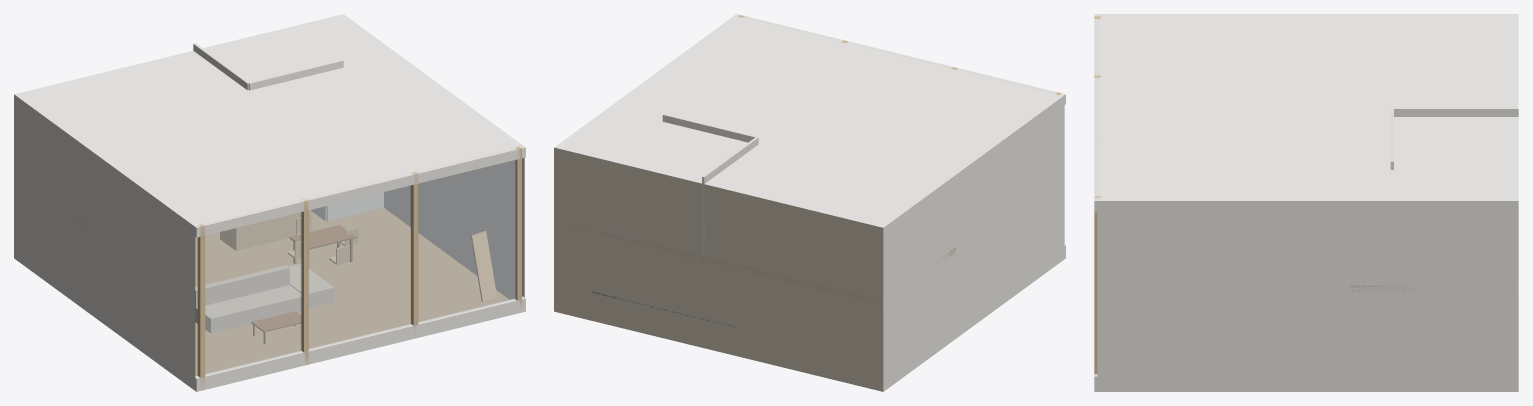
File: cayena-loft.glb
The picture shows the model from 3 angles, left to right: view 1: azimuth 30°, elevation 25°; view 2: azimuth 150°, elevation 25°; view 3: azimuth 270°, elevation 25°; orthographic projection. The views are drawn at different scales.
Parts seen in each view (by area): view 1: Techo_Doble, Pared_O, Techo_Mez, Piso_PB, Vidrio_S_0.0, Vidrio_S_3.5, Vidrio_S_-3.5, Pared_E, Antepecho_S, Cabezal_S, Sofa_Largo, Sofa_Respaldo (+12 smaller); view 2: Pared_N_Piedra, Techo_Doble, Pared_O, Techo_Mez, Cabezal_S, Mezzanine_Losa, Bath2_Wall_S, Bath2_Wall_W; view 3: Pared_E, Techo_Doble, Techo_Mez, Cabezal_S, Bath2_Wall_W, Pilastra_5.05.
Boxes of the visible parts, x1=… form: Techo_Doble: x1=87, y1=67, x2=523, y2=225; Pared_O: x1=14, y1=94, x2=195, y2=390; Techo_Mez: x1=14, y1=14, x2=415, y2=147; Piso_PB: x1=195, y1=208, x2=509, y2=376; Vidrio_S_0.0: x1=309, y1=186, x2=410, y2=349; Vidrio_S_3.5: x1=418, y1=160, x2=515, y2=322; Vidrio_S_-3.5: x1=205, y1=212, x2=300, y2=374; Pared_E: x1=384, y1=157, x2=524, y2=299; Antepecho_S: x1=194, y1=296, x2=525, y2=391; Cabezal_S: x1=194, y1=146, x2=525, y2=237; Sofa_Largo: x1=195, y1=285, x2=301, y2=333; Sofa_Respaldo: x1=195, y1=265, x2=289, y2=308; Pared_N_Piedra: x1=554, y1=147, x2=883, y2=391; Techo_Doble: x1=627, y1=15, x2=1062, y2=174; Pared_O: x1=883, y1=96, x2=1064, y2=391; Techo_Mez: x1=554, y1=94, x2=955, y2=227; Cabezal_S: x1=734, y1=14, x2=1065, y2=105; Mezzanine_Losa: x1=554, y1=220, x2=955, y2=305; Bath2_Wall_S: x1=662, y1=114, x2=757, y2=142; Bath2_Wall_W: x1=702, y1=137, x2=758, y2=255; Pared_E: x1=1097, y1=201, x2=1518, y2=391; Techo_Doble: x1=1097, y1=14, x2=1350, y2=200; Techo_Mez: x1=1350, y1=14, x2=1518, y2=200; Cabezal_S: x1=1094, y1=14, x2=1100, y2=212; Bath2_Wall_W: x1=1392, y1=107, x2=1518, y2=116; Pilastra_5.05: x1=1094, y1=196, x2=1100, y2=374.
Size of the model in its own units: 10.5 by 5.21 by 10.08.
